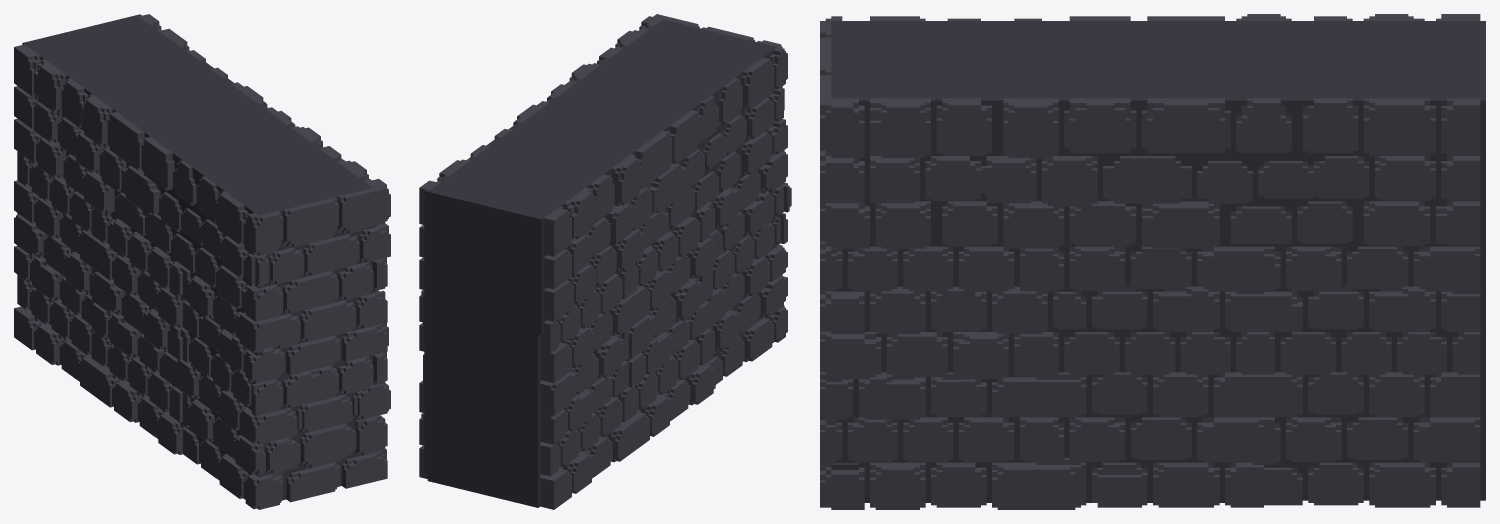
The model's file is SideWall_01.obj.
3 views of the same model, side by side, from view 1: azimuth 30°, elevation 25°; view 2: azimuth 150°, elevation 25°; view 3: azimuth 270°, elevation 25° (orthographic). The views are drawn at different scales.
Bounding box in the file's own units: 4 × 8 × 12.
Materials: 1 (1 with a texture image).
